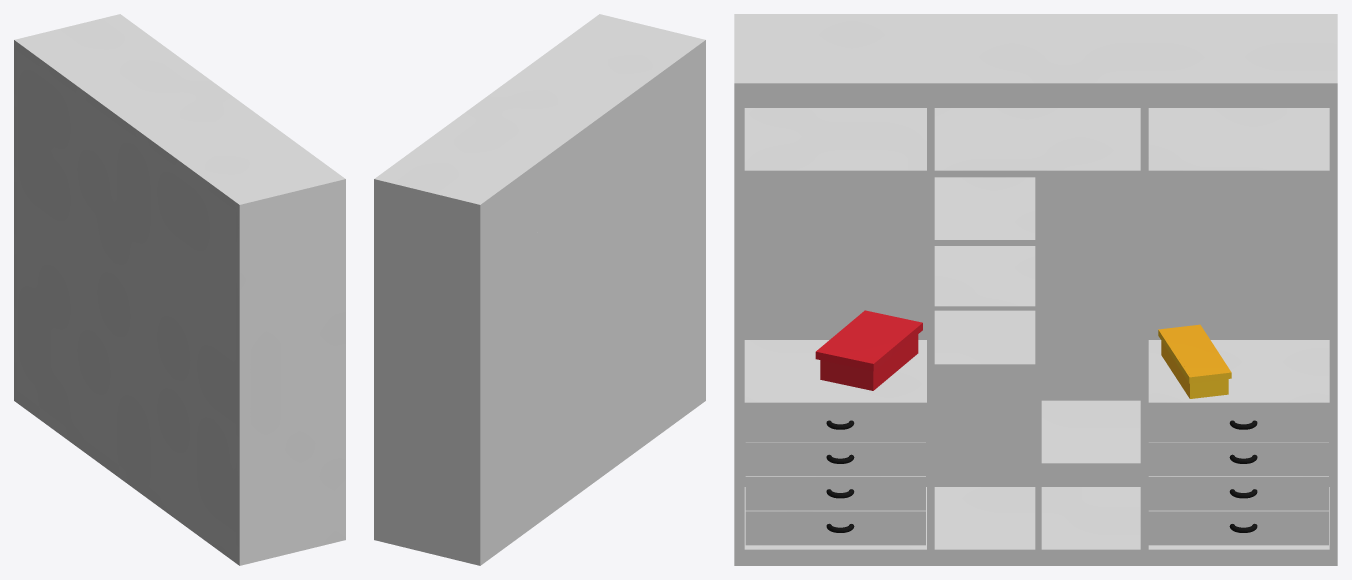
Rendered from armadio.fbx.
The picture shows the model from 3 angles, left to right: view 1: azimuth 30°, elevation 25°; view 2: azimuth 150°, elevation 25°; view 3: azimuth 270°, elevation 25°; orthographic projection. The views are drawn at different scales.
Parts seen in each view (by area): view 1: Cylinder.001; view 2: Cylinder.001; view 3: Cylinder.001.
Boxes of the visible parts, <box> form: Cylinder.001: <box>14,14,345,565</box>; Cylinder.001: <box>374,14,705,565</box>; Cylinder.001: <box>734,14,1337,565</box>.
Bounding box in the file's own units: 66.1 × 204 × 231.
